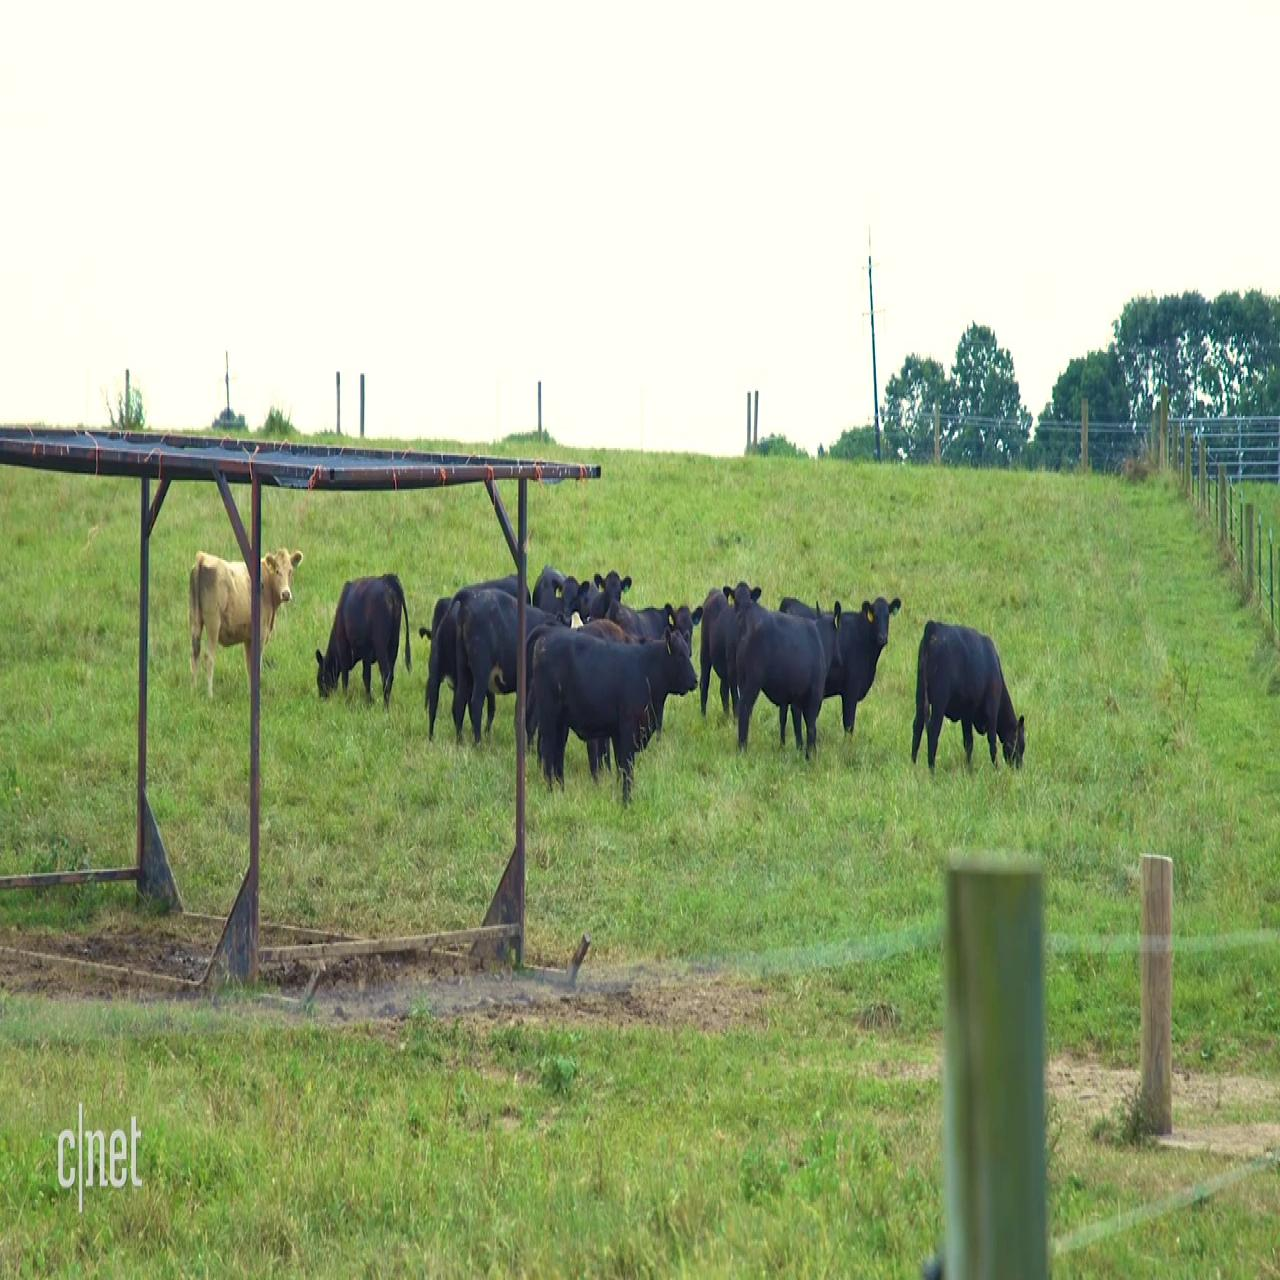cow: (519, 620, 697, 805), (728, 587, 905, 763), (177, 543, 308, 713), (908, 614, 1029, 781), (445, 598, 540, 762), (314, 574, 414, 717), (700, 579, 756, 716), (545, 561, 588, 633), (665, 595, 699, 661), (595, 565, 639, 615)
